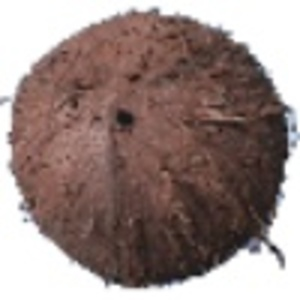coco: (1, 7, 300, 289)
